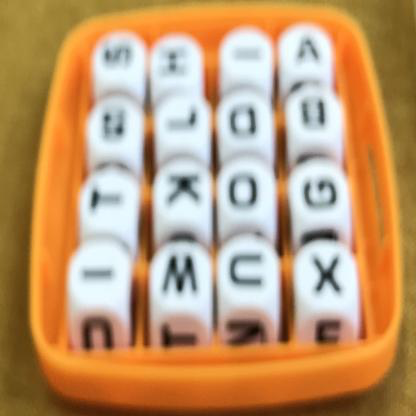a: (288, 24, 327, 72)
b: (291, 85, 335, 140)
d: (220, 89, 266, 151)
g: (298, 166, 343, 218)
h: (156, 35, 199, 92)
i: (70, 250, 129, 303), (224, 32, 266, 71)
k: (155, 159, 210, 222)
l: (164, 96, 206, 147)
o: (220, 157, 267, 217)
s: (88, 27, 144, 85), (95, 102, 134, 147)
t: (79, 164, 136, 231)
u: (220, 238, 279, 307)
w: (150, 245, 212, 311)
x: (301, 241, 357, 309)
